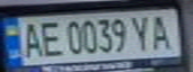0: (63, 18, 84, 56), (81, 17, 100, 54)
3: (96, 16, 115, 54)
9: (109, 16, 130, 53)
A: (145, 11, 178, 51), (15, 19, 45, 60)
E: (36, 18, 63, 58)
Y: (130, 12, 157, 52)
